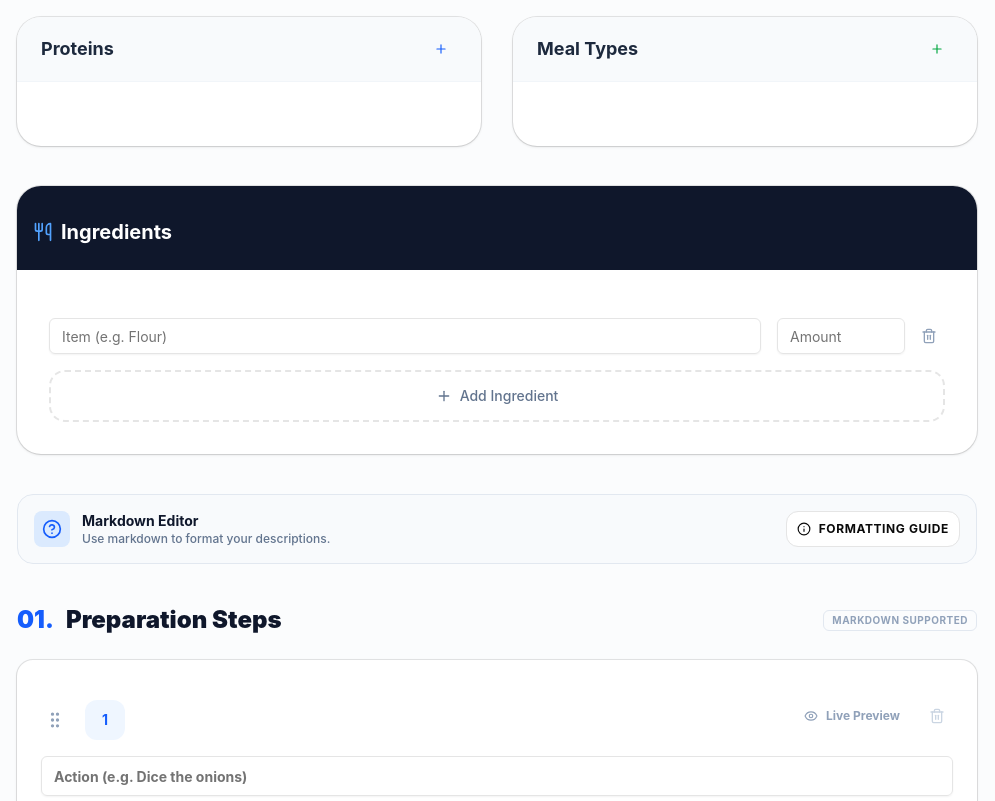
Test: AddRecipe Page › can add and remove ingredients
The image size is (995, 801).
(page scrolled)
Click the button "Add Ingredient": (497, 396) [49, 370, 945, 422]
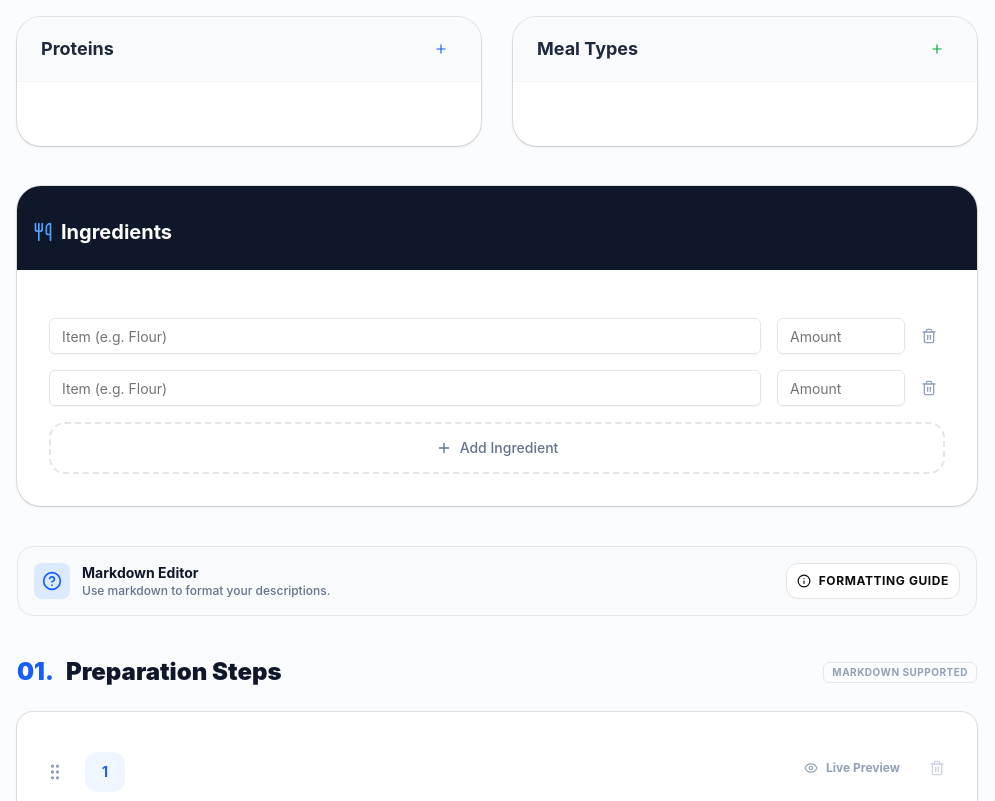
Now the number of fields with placeholder "Item (e.g. Flour)" is 2, box [49, 318, 761, 354]; [49, 370, 761, 406]
Click the 1st button named "Remove ingredient": (929, 336) [913, 320, 945, 352]
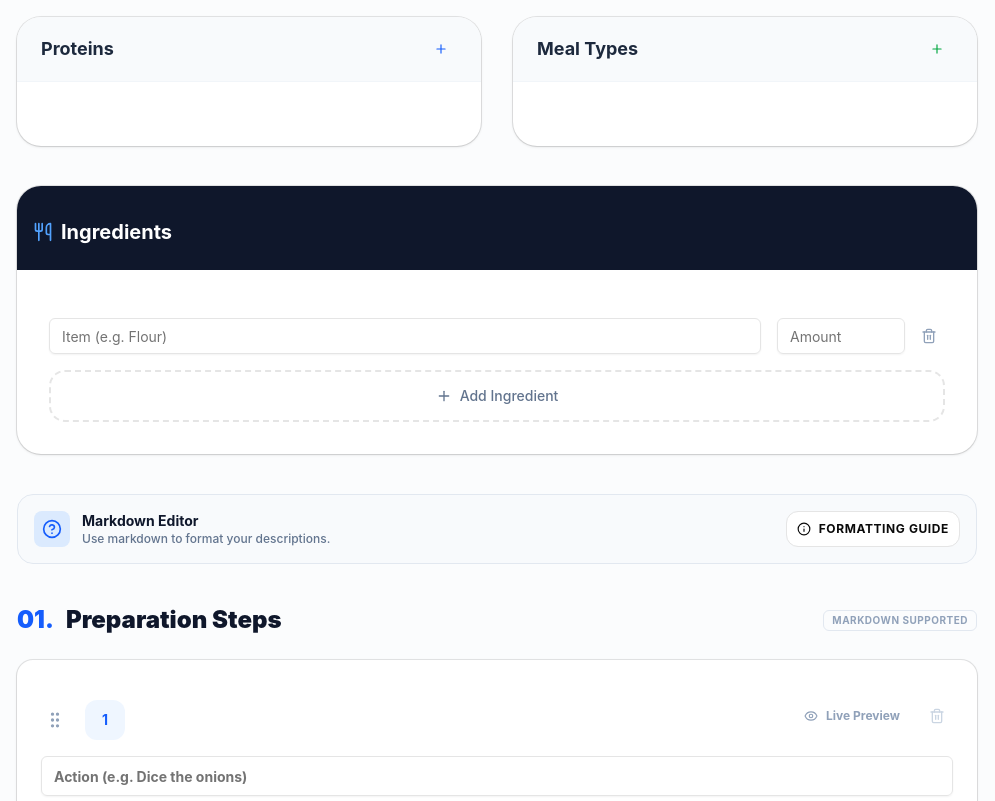
Now the number of fields with placeholder "Item (e.g. Flour)" is 1, box [49, 318, 761, 354]
